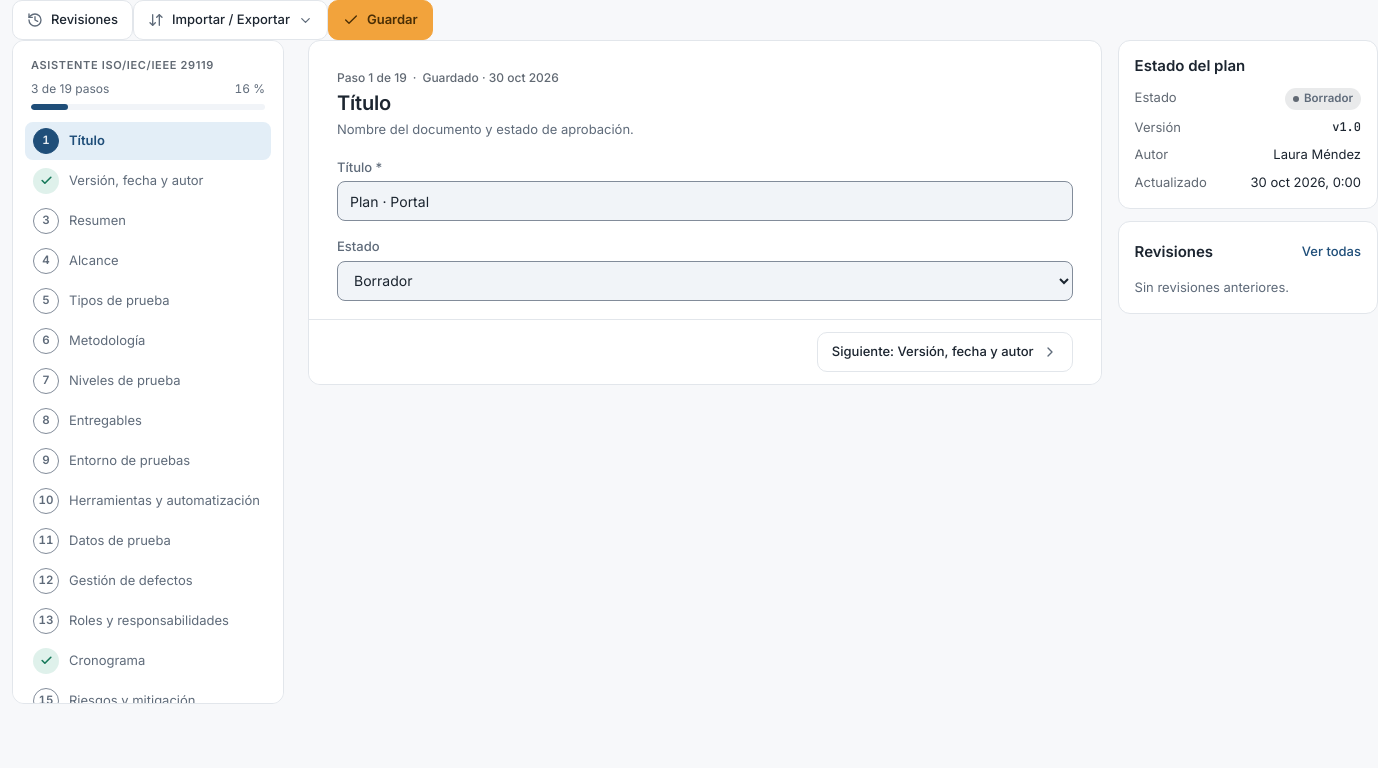
Test: step 14 · Cronograma (RED-W5) › «Siguiente sprint» adds the step 6 length after the latest sprint
Expected: the text "Paso 1 de 19" is shown, [337,69,407,87]
Click the button "Cronograma" at (148, 660), box [25,642,271,680]
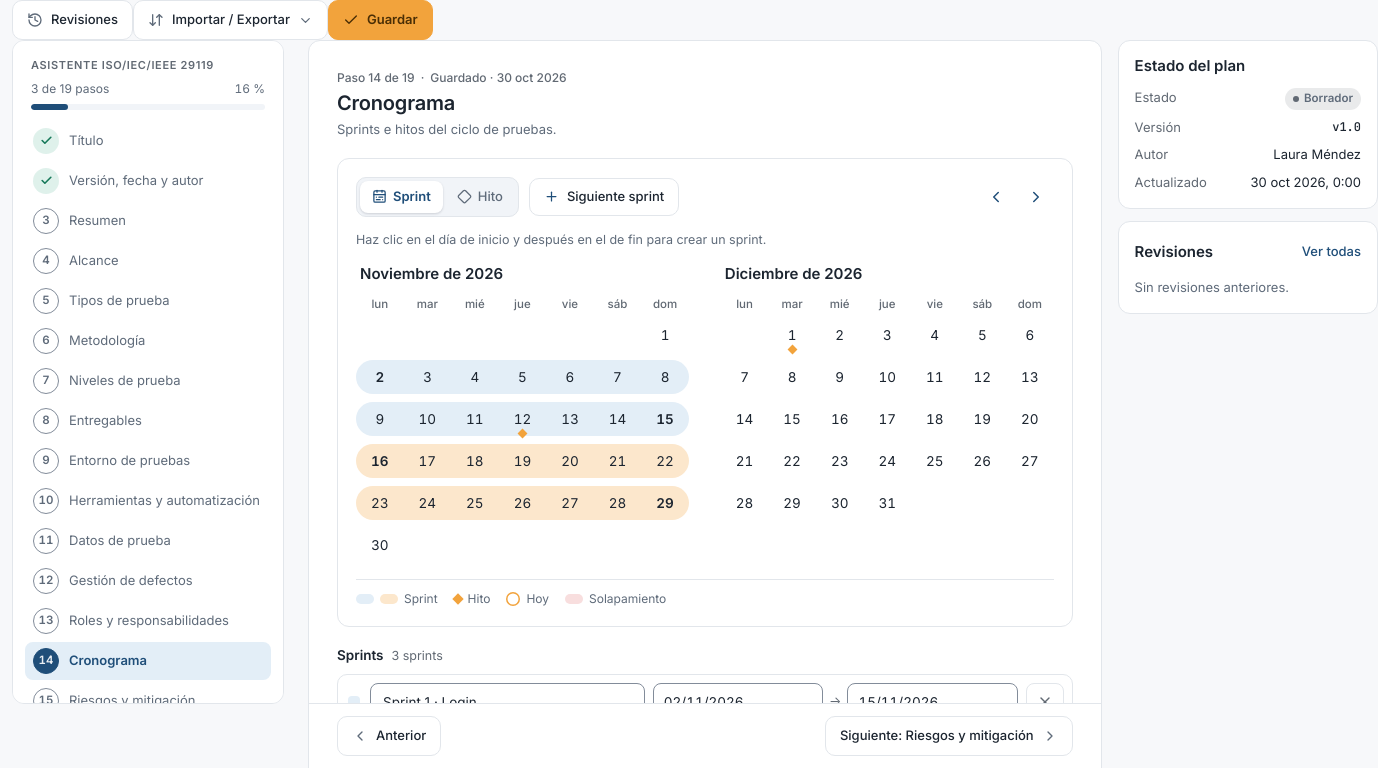
Click the button "Siguiente sprint" at (604, 196), box [529,178,679,216]
(page scrolled)
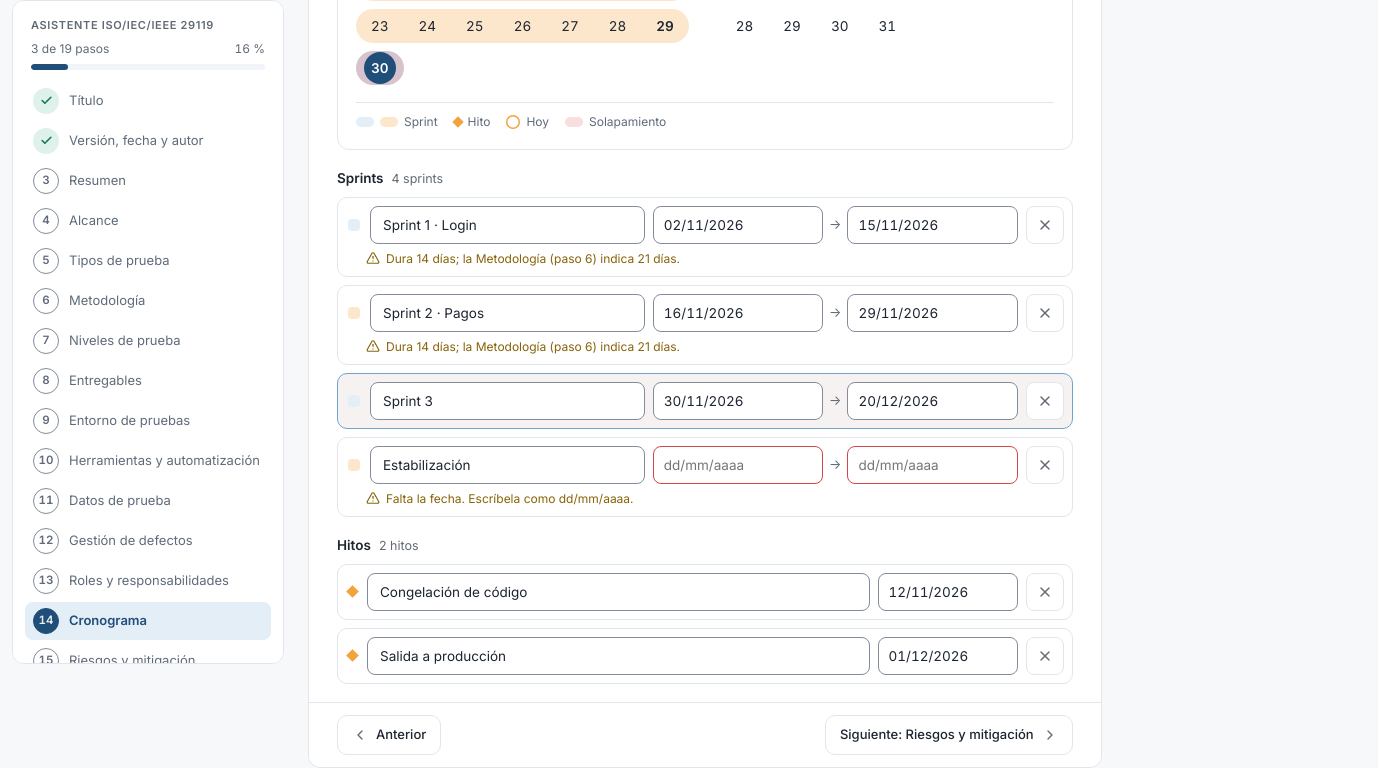
Expected: the text "Dura 14 días; la Metodología (paso 6) indica 21 días." is shown 2 times, [386,250,680,268]; [386,338,680,356]
Expected: the field named "Inicio" holds "30/11/2026", [653,382,823,420]
Expected: the field named "Fin" holds "20/12/2026", [847,382,1018,420]
